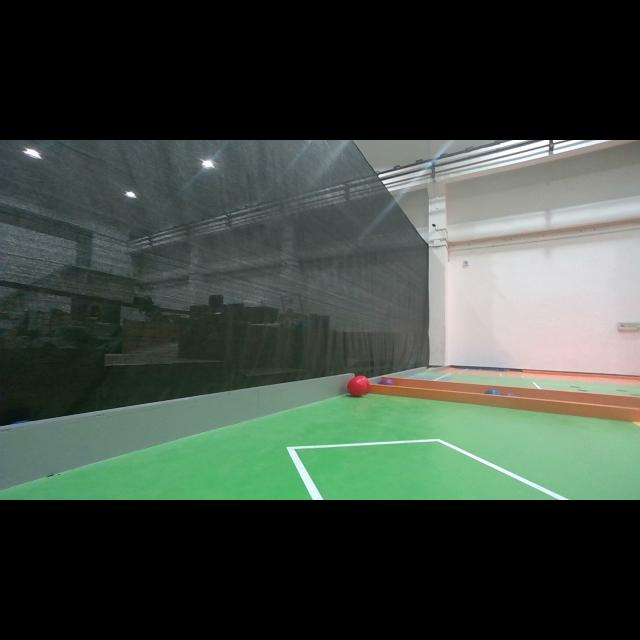R: (348, 377, 367, 397)
